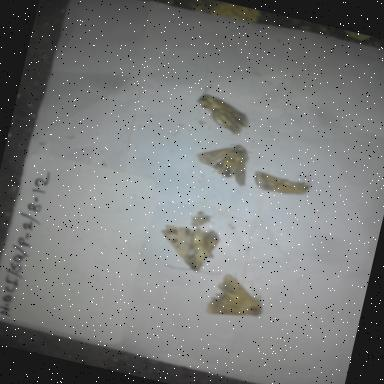abw: (148, 213, 234, 283), (198, 266, 276, 334), (182, 129, 260, 195), (184, 87, 260, 141), (248, 157, 322, 209)
